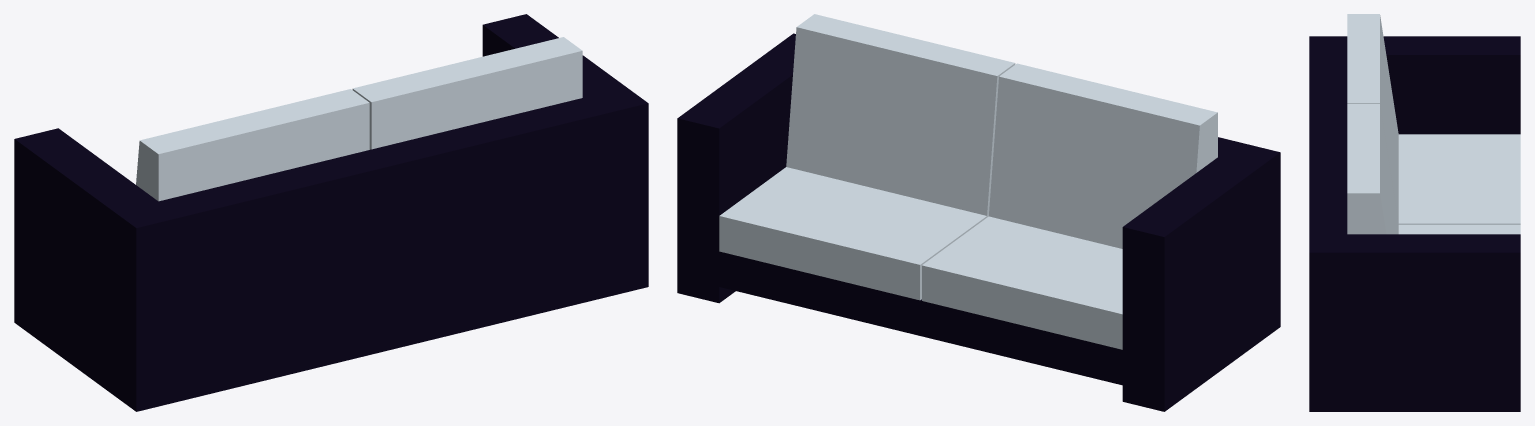
File: Sofa.fbx
3 views of the same model, side by side, from view 1: azimuth 30°, elevation 25°; view 2: azimuth 150°, elevation 25°; view 3: azimuth 270°, elevation 25° (orthographic). The views are drawn at different scales.
Parts seen in each view (by area): view 1: Sofa; view 2: Sofa; view 3: Sofa.
Part boxes in pixels (box(x1,y1,x2,y2)): Sofa: box(14, 14, 648, 411); Sofa: box(677, 14, 1280, 411); Sofa: box(1309, 14, 1520, 411).
Bounding box in the file's own units: 485 × 209 × 200.
